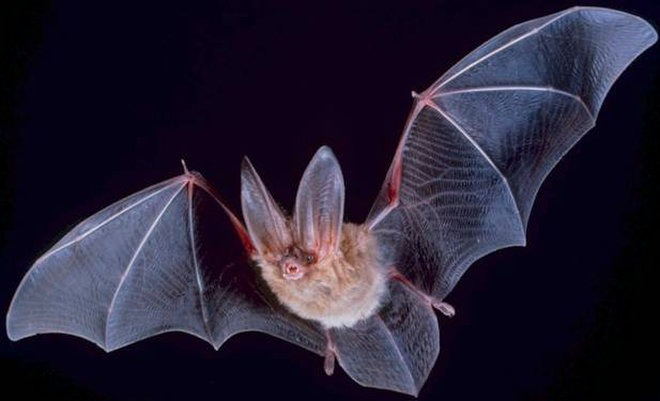bat: (3, 4, 659, 399)
